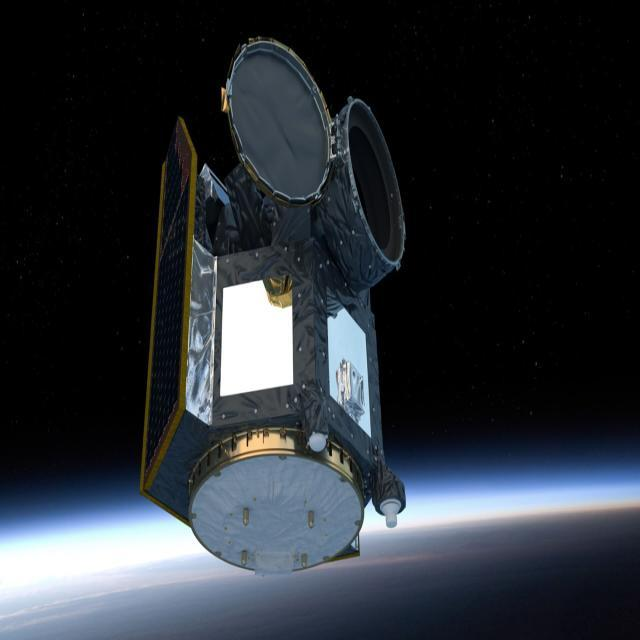sat: (136, 19, 414, 590)
